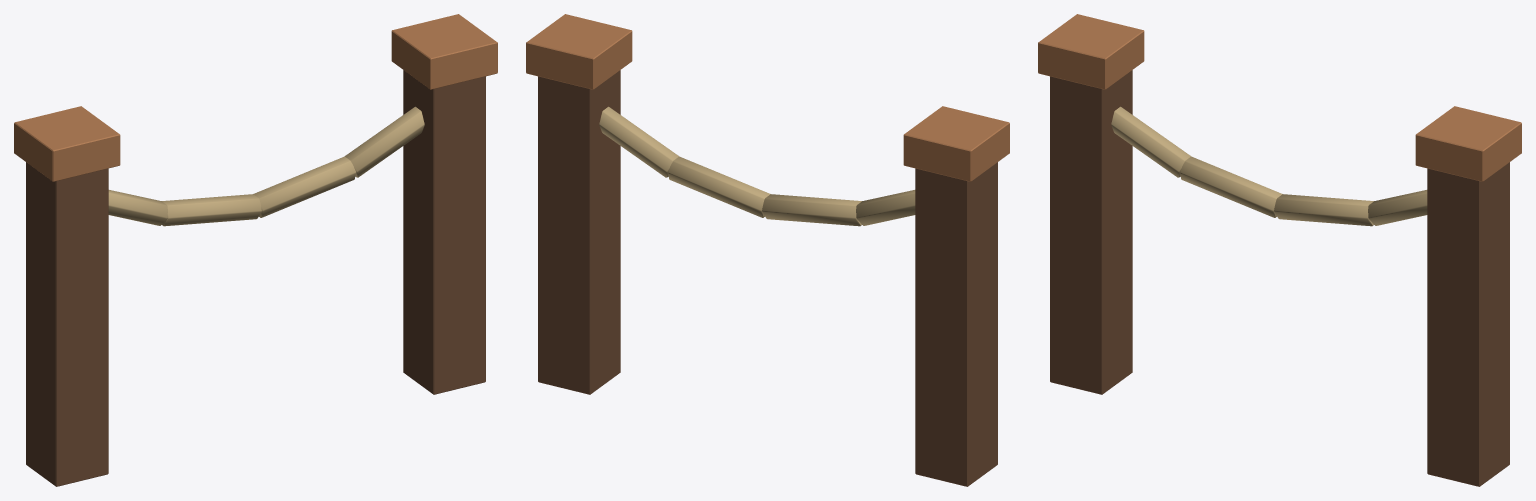
The model's file is rope_fence_01.glb.
The picture shows the model from 3 angles, left to right: view 1: azimuth 30°, elevation 25°; view 2: azimuth 150°, elevation 25°; view 3: azimuth 330°, elevation 25°; orthographic projection.
Visible parts, largest first — view 1: rope_fence_01; view 2: rope_fence_01; view 3: rope_fence_01.
Part boxes in pixels (x1,y1,x2,y2): rope_fence_01: (14,14,497,486); rope_fence_01: (526,14,1009,486); rope_fence_01: (1038,14,1521,486).
Bounding box in the file's own units: 1.18 × 0.865 × 0.18.
